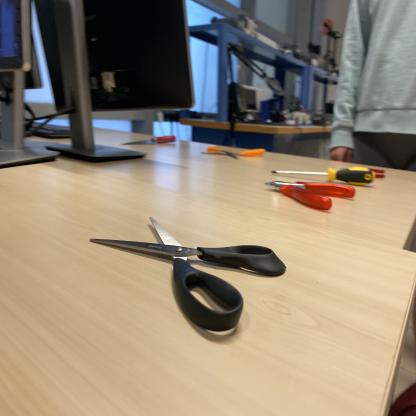scissors: (88, 215, 285, 339), (201, 145, 267, 161)
